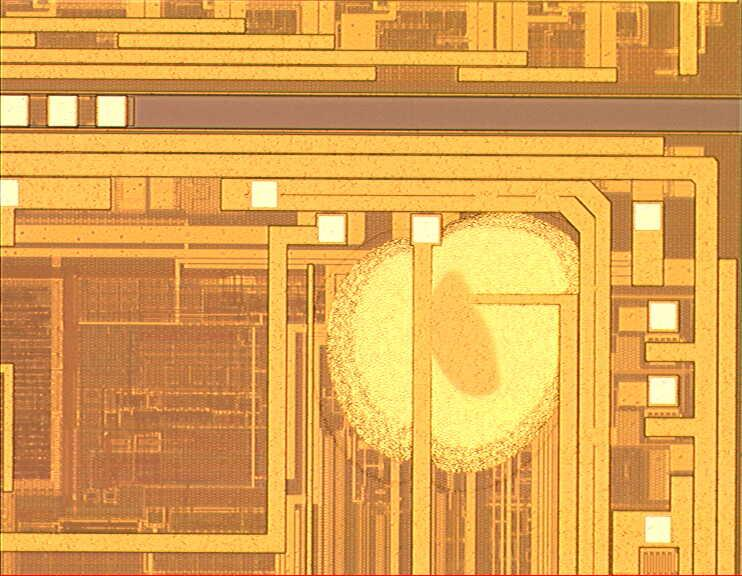BLOCK ETCH: (303, 204, 597, 501)
